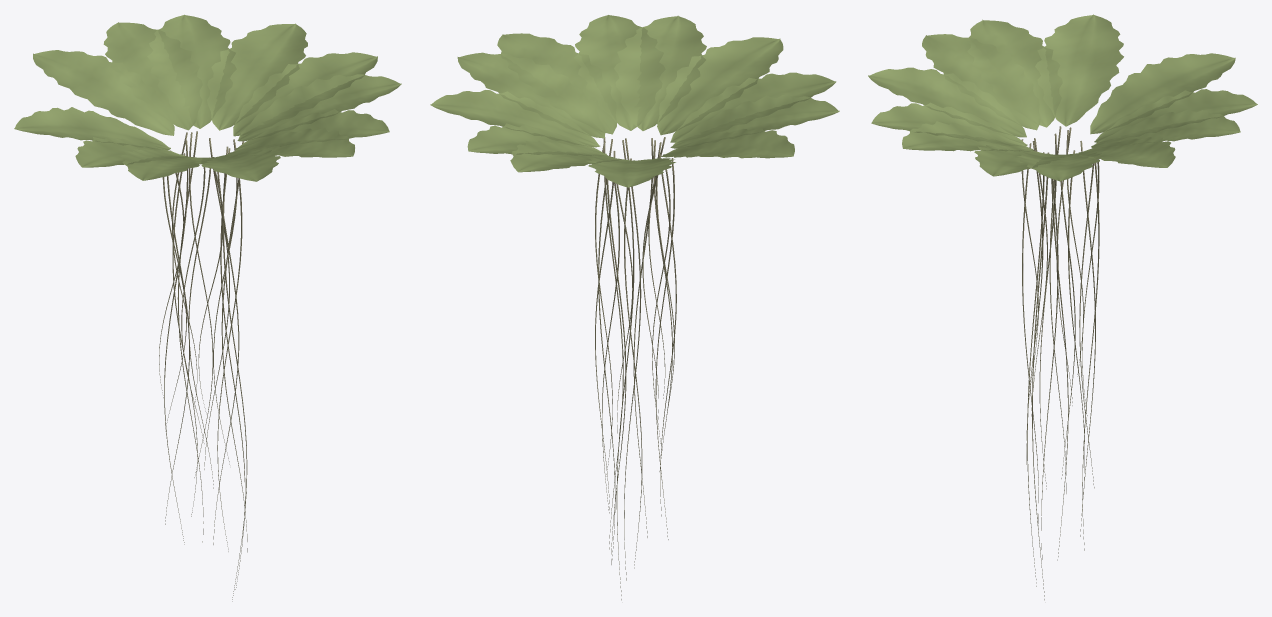
The model's file is waterlettuce-desktop.glb.
3 views of the same model, side by side, from view 1: azimuth 30°, elevation 25°; view 2: azimuth 150°, elevation 25°; view 3: azimuth 270°, elevation 25° (orthographic). The views are drawn at different scales.
Parts seen in each view (by area): view 1: floating-leaf, hanging-root; view 2: floating-leaf, hanging-root; view 3: floating-leaf, hanging-root.
Part boxes in pixels (x1=…): floating-leaf: x1=14, y1=14, x2=401, y2=181; hanging-root: x1=159, y1=131, x2=247, y2=601; floating-leaf: x1=430, y1=15, x2=839, y2=187; hanging-root: x1=595, y1=137, x2=676, y2=600; floating-leaf: x1=868, y1=14, x2=1257, y2=181; hanging-root: x1=1021, y1=126, x2=1099, y2=600.
Bounding box in the file's own units: 0.5757 × 0.7999 × 0.5694.
